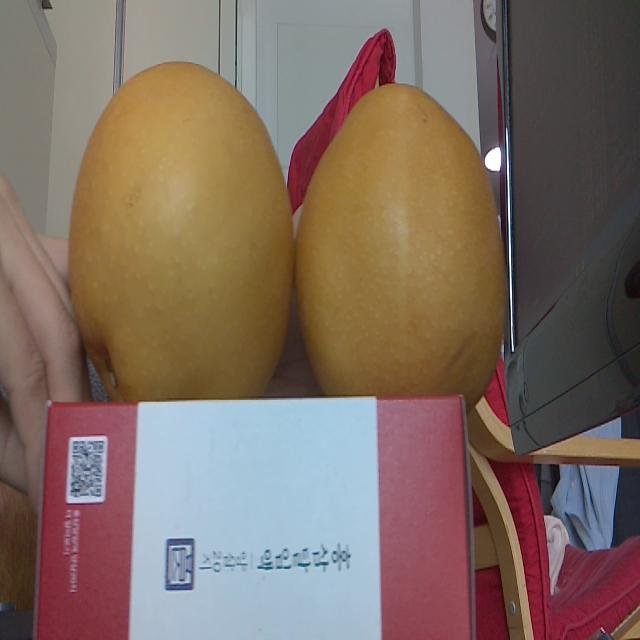pear: (63, 57, 294, 400), (294, 82, 510, 397)
